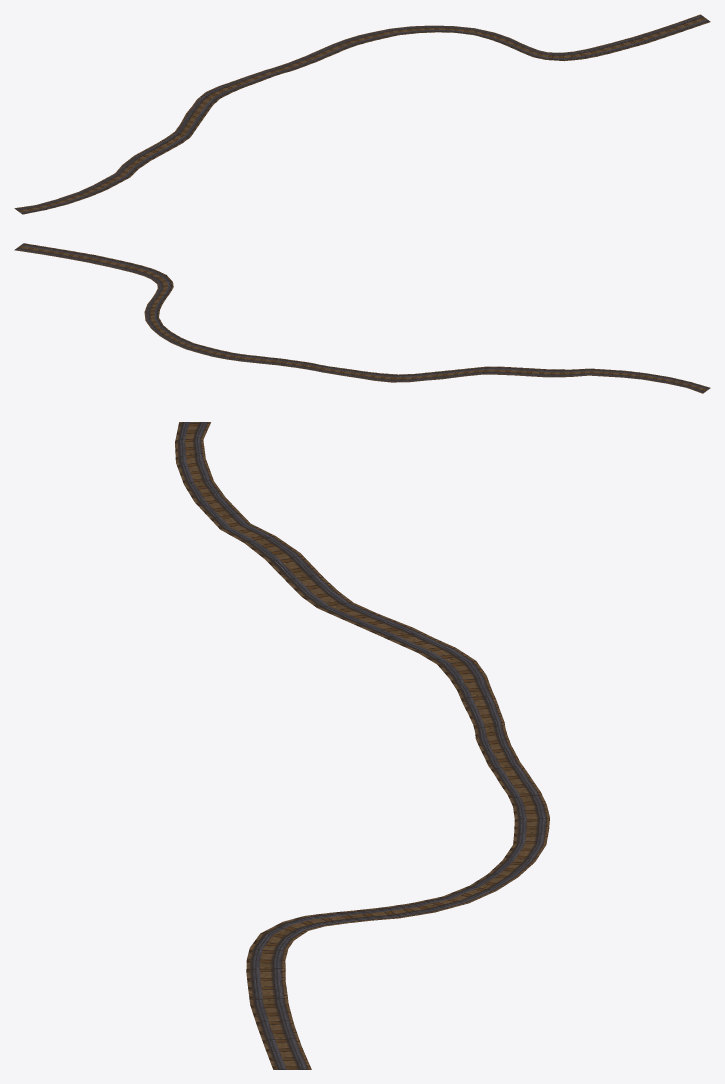
The model's file is Rail_01.fbx.
The picture shows the model from 3 angles, top to bottom: view 1: azimuth 30°, elevation 25°; view 2: azimuth 150°, elevation 25°; view 3: azimuth 270°, elevation 25°; orthographic projection. The views are drawn at different scales.
Visible parts, largest first — view 1: Rail_01; view 2: Rail_01; view 3: Rail_01.
Boxes of the visible parts, x1,y1,x2,y2 form: Rail_01: (14,14,710,214); Rail_01: (14,243,710,393); Rail_01: (175,422,549,1069).
Size of the model in its own units: 10614 by 0.000107 by 2598.
1 material, 1 textured.
